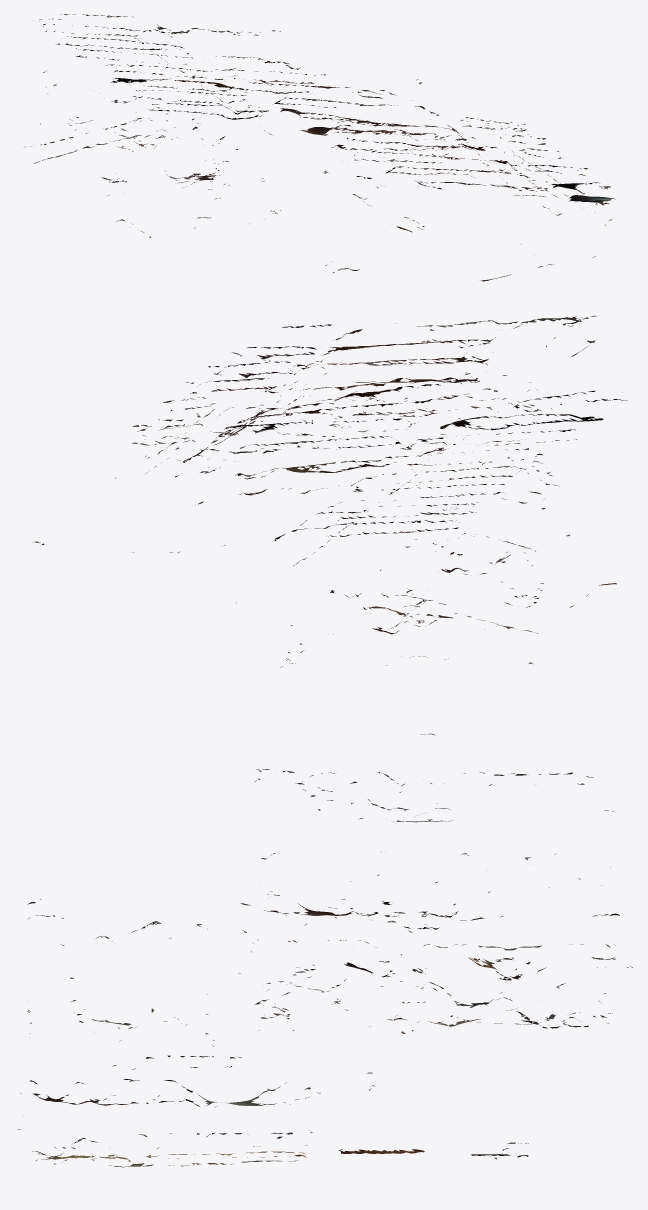
File: esc_baja_techo_03.glb
3 renders of one model, top to bottom at view 1: azimuth 30°, elevation 25°; view 2: azimuth 150°, elevation 25°; view 3: azimuth 270°, elevation 25°, orthographic. The views are drawn at different scales.
Parts seen in each view (by area): view 1: techo_Salon_y_porche_3_GLTF_13, techo_Salon_y_porche_3_GLTF_12, techo_Salon_y_porche_3_GLTF_11, techo_Salon_y_porche_3_GLTF_10; view 2: techo_Salon_y_porche_3_GLTF_13, techo_Salon_y_porche_3_GLTF_12, techo_Salon_y_porche_3_GLTF_11, techo_Salon_y_porche_3_GLTF_4, techo_Salon_y_porche_3_GLTF_9; view 3: techo_Salon_y_porche_3_GLTF_11, techo_Salon_y_porche_3_GLTF_12, techo_Salon_y_porche_3_GLTF_10.
Boxes of the visible parts, x1,y1,x2,y2 form: techo_Salon_y_porche_3_GLTF_13: (34, 31, 615, 237); techo_Salon_y_porche_3_GLTF_12: (24, 21, 610, 272); techo_Salon_y_porche_3_GLTF_11: (40, 36, 611, 270); techo_Salon_y_porche_3_GLTF_10: (58, 14, 548, 189); techo_Salon_y_porche_3_GLTF_13: (135, 323, 616, 634); techo_Salon_y_porche_3_GLTF_12: (132, 352, 626, 660); techo_Salon_y_porche_3_GLTF_11: (203, 316, 582, 659); techo_Salon_y_porche_3_GLTF_4: (179, 349, 536, 644); techo_Salon_y_porche_3_GLTF_9: (159, 347, 571, 665); techo_Salon_y_porche_3_GLTF_11: (30, 774, 549, 1164); techo_Salon_y_porche_3_GLTF_12: (74, 775, 615, 1167); techo_Salon_y_porche_3_GLTF_10: (131, 769, 619, 1159).
Size of the model in its own units: 10.42 by 4.11 by 11.45.
Materials: 14 (14 with a texture image).
